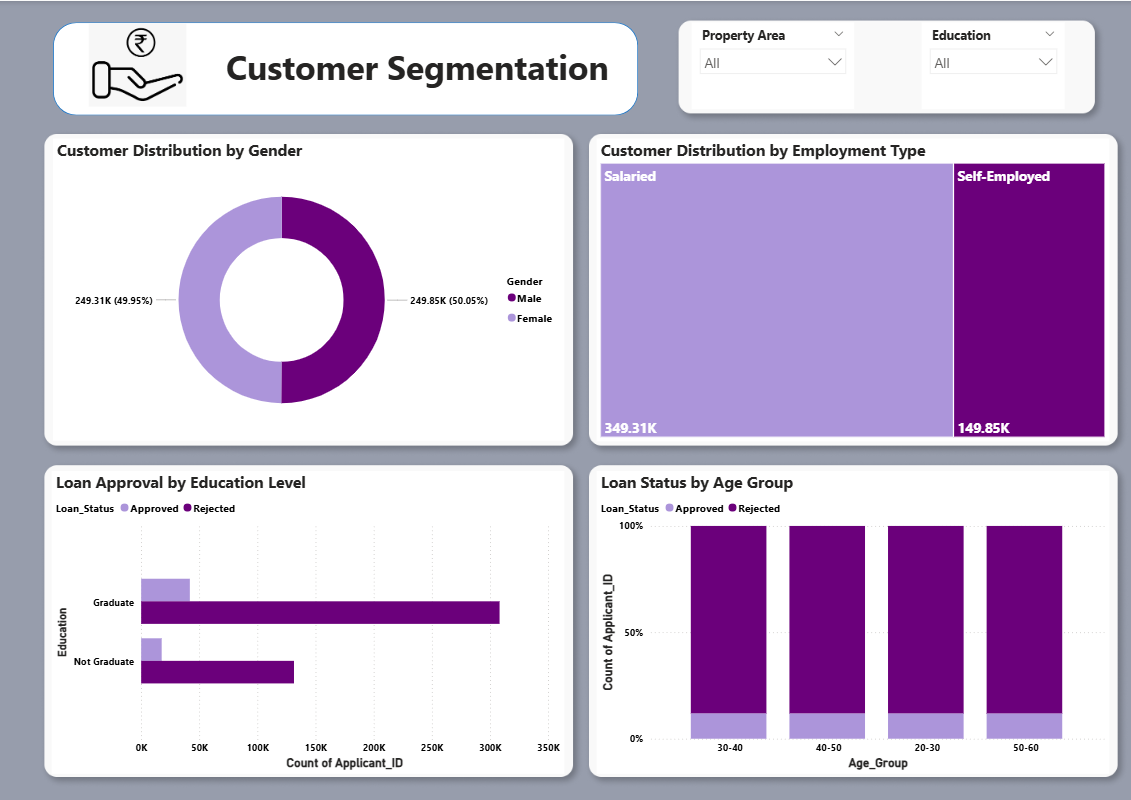

The dashboard page shown, as its layout file describes it:
{"tool":"powerbi","page":{"name":"Customer Segmentation","canvas":[1440,1024],"ordinal":2},"visuals":[{"type":"donutChart","title":"Customer Distribution by Gender","fields":{"Category":["loan_analysis loan_dataset.Gender"],"Y":["CountNonNull(loan_analysis loan_dataset.Applicant_ID)"]},"box":[69.9,174.7,649.5,384.3],"z":0},{"type":"hundredPercentStackedColumnChart","title":"Loan Status by Age Group","fields":{"Category":["loan_analysis loan_dataset.Age_Group"],"Series":["loan_analysis loan_dataset.Loan_Status"],"Y":["CountNonNull(loan_analysis loan_dataset.Applicant_ID)"]},"box":[761.2,597.3,650.9,384.7],"z":1000},{"type":"treemap","title":"Customer Distribution by Employment Type","fields":{"Group":["loan_analysis loan_dataset.Employment_Type"],"Values":["CountNonNull(loan_analysis loan_dataset.Applicant_ID)"]},"box":[761.2,175.3,650.9,384.7],"z":2000},{"type":"clusteredBarChart","title":"Loan Approval by Education Level","fields":{"Category":["loan_analysis loan_dataset.Education"],"Series":["loan_analysis loan_dataset.Loan_Status"],"Y":["CountNonNull(loan_analysis loan_dataset.Applicant_ID)"]},"box":[68.2,597.3,650.9,384.7],"z":3000},{"type":"slicer","fields":{"Values":["loan_analysis loan_dataset.Property_Area"]},"box":[881.3,27.6,206.1,110.4],"z":4000},{"type":"slicer","fields":{"Values":["loan_analysis loan_dataset.Education"]},"box":[1173.5,27.6,181.8,110.4],"z":5000},{"type":"shape","box":[69.8,27.6,743.4,118.5],"z":6000},{"type":"image","box":[92.5,29.2,170.4,105.5],"z":7000},{"type":"textbox","box":[250,48.7,548.6,86],"z":8000}]}

Visuals, with their boxes in screenshot pixels (x1, y1, x2, y2), scaled from the page's 1440x1024 canvas onto the 1131x800 screenshot:
"Customer Distribution by Gender" donutChart: [left=55, top=136, right=565, bottom=437]
"Loan Status by Age Group" hundredPercentStackedColumnChart: [left=598, top=467, right=1109, bottom=767]
"Customer Distribution by Employment Type" treemap: [left=598, top=137, right=1109, bottom=438]
"Loan Approval by Education Level" clusteredBarChart: [left=54, top=467, right=565, bottom=767]
slicer - loan_analysis loan_dataset.Property_Area: [left=692, top=22, right=854, bottom=108]
slicer - loan_analysis loan_dataset.Education: [left=922, top=22, right=1064, bottom=108]
shape: [left=55, top=22, right=639, bottom=114]
image: [left=73, top=23, right=206, bottom=105]
textbox: [left=196, top=38, right=627, bottom=105]
